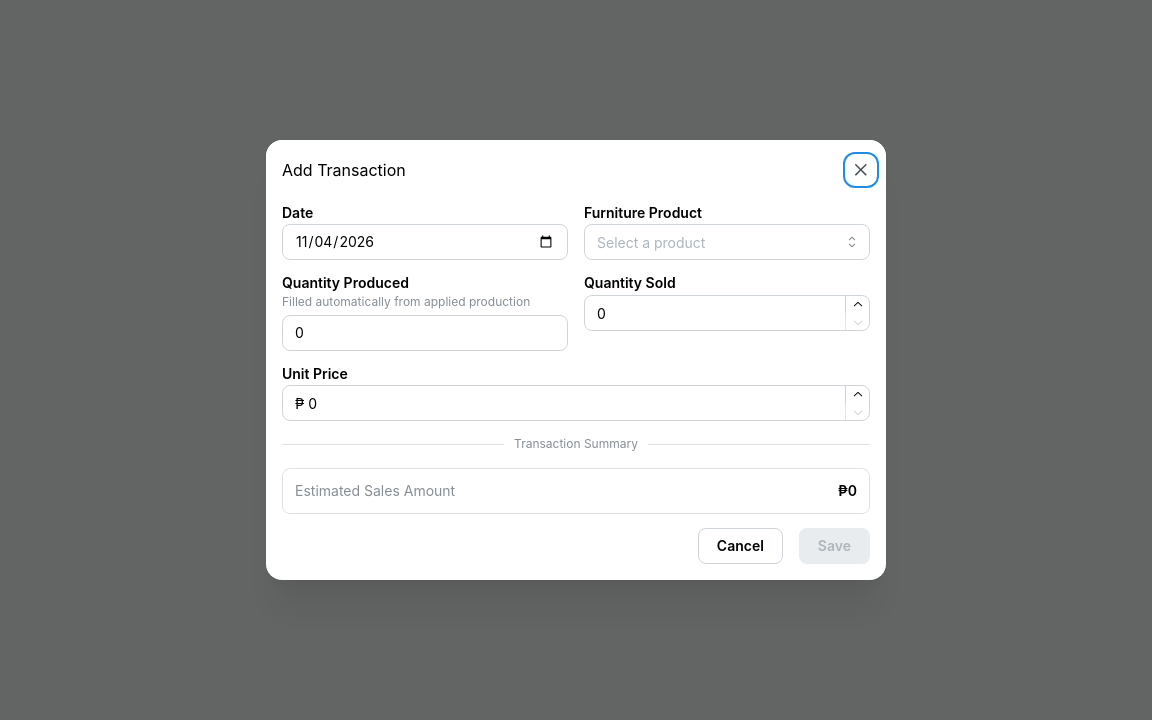
Scenario: AddTransactionModal › does not cap the quantity sold while validation is off
Click the dropdown labelled "Furniture Product".
click(727, 242)  # box left=584, top=224, right=870, bottom=260
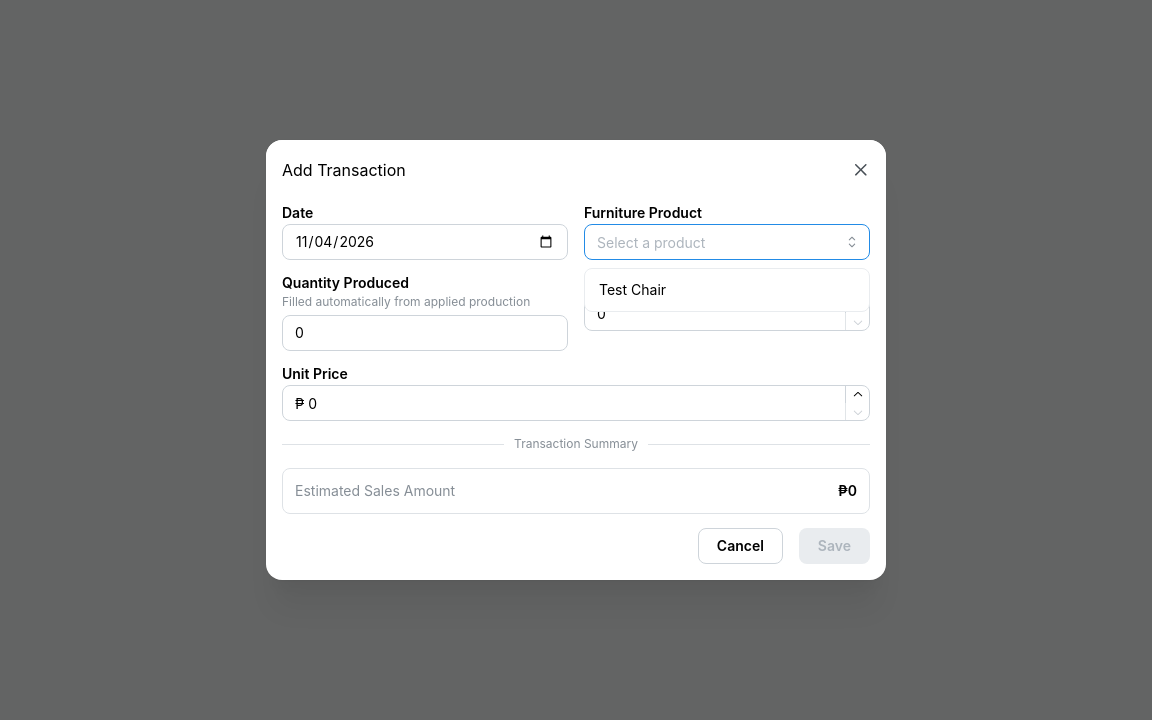
Click the option "Test Chair".
click(632, 290)  # box left=599, top=282, right=666, bottom=298
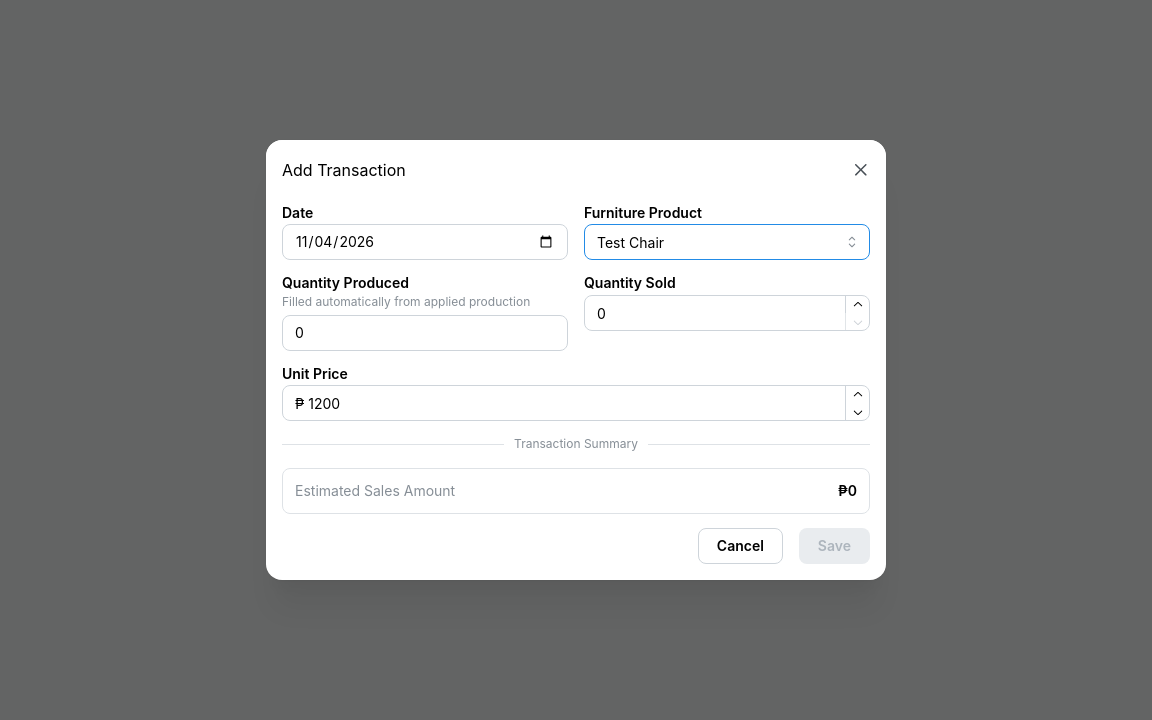
Replace the text in the field labelled "Quantity Sold" with "99" at coordinates (727, 313), box left=584, top=295, right=870, bottom=331
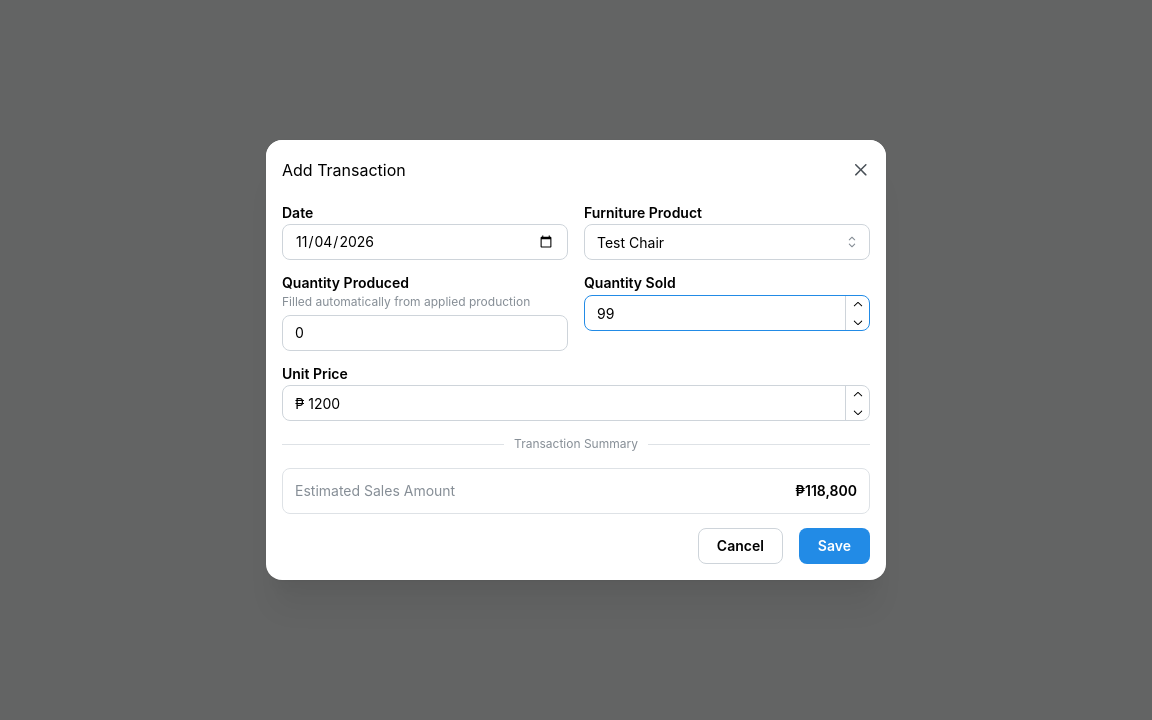
Now the button "Save" is enabled, box left=799, top=528, right=870, bottom=564
